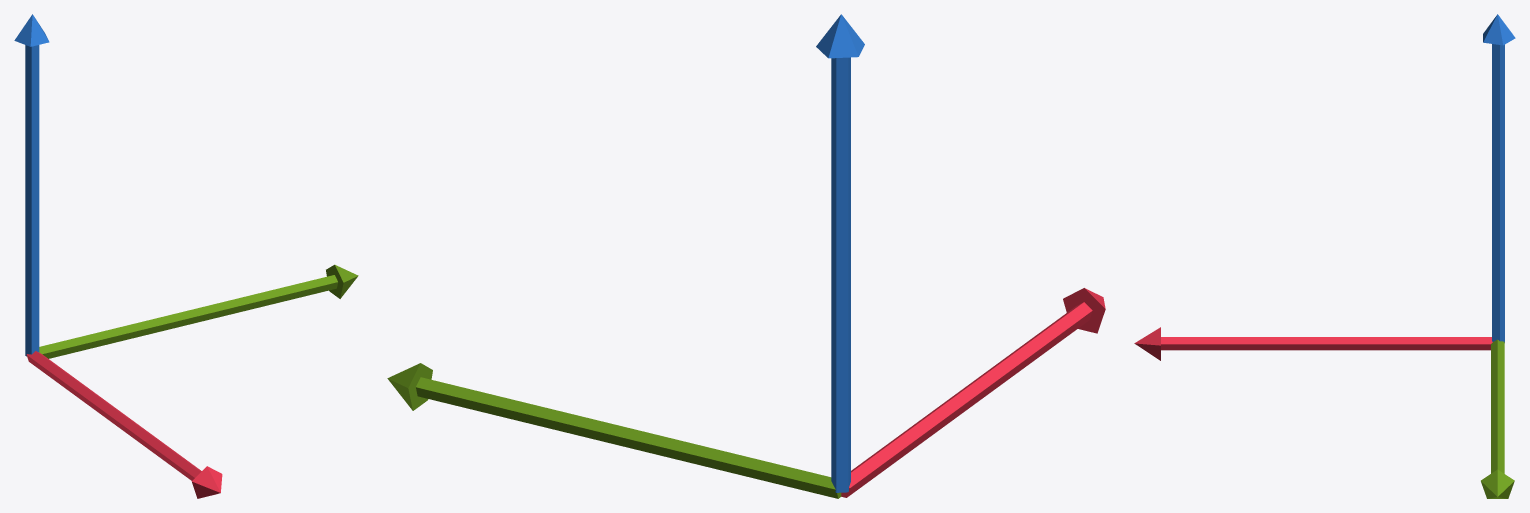
Rendered from axis.glb.
3 views of the same model, side by side, from view 1: azimuth 30°, elevation 25°; view 2: azimuth 150°, elevation 25°; view 3: azimuth 270°, elevation 25° (orthographic). The views are drawn at different scales.
Visible parts, largest first — view 1: Cylinder.002; view 2: Cylinder.002; view 3: Cylinder.002.
Part boxes in pixels (x1,y1,x2,y2): Cylinder.002: (14, 14, 358, 498); Cylinder.002: (387, 14, 1105, 498); Cylinder.002: (1134, 14, 1515, 498).
Bounding box in the file's own units: 3.48 × 3.46 × 3.49.
